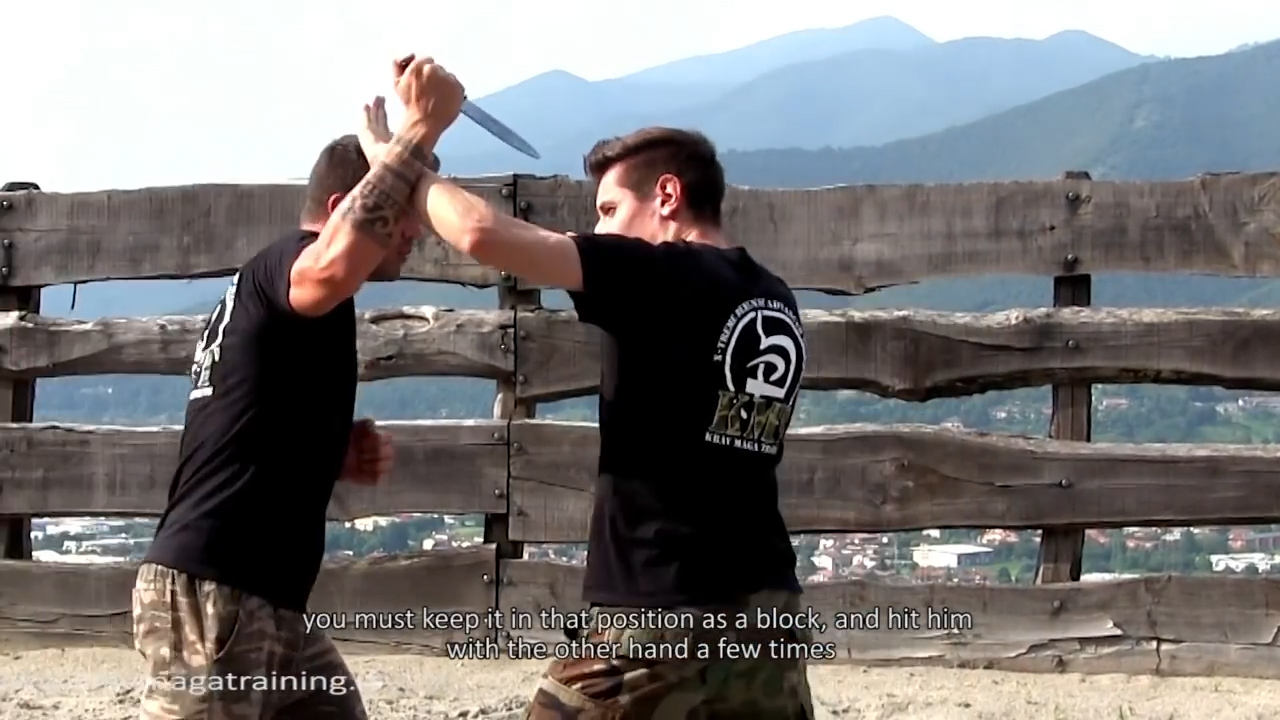knife: (385, 46, 547, 165)
